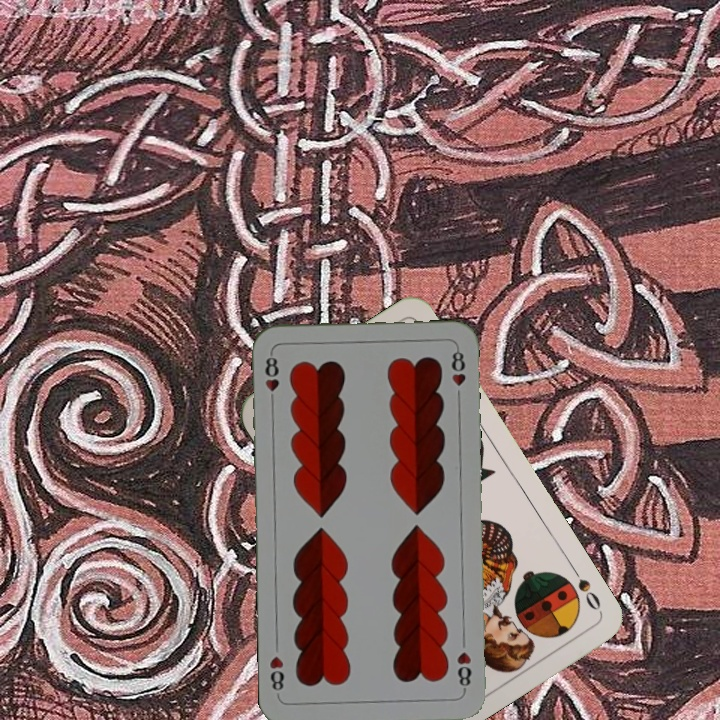H8: (260, 349, 282, 408), (452, 647, 474, 694)
SO: (567, 563, 604, 613)
